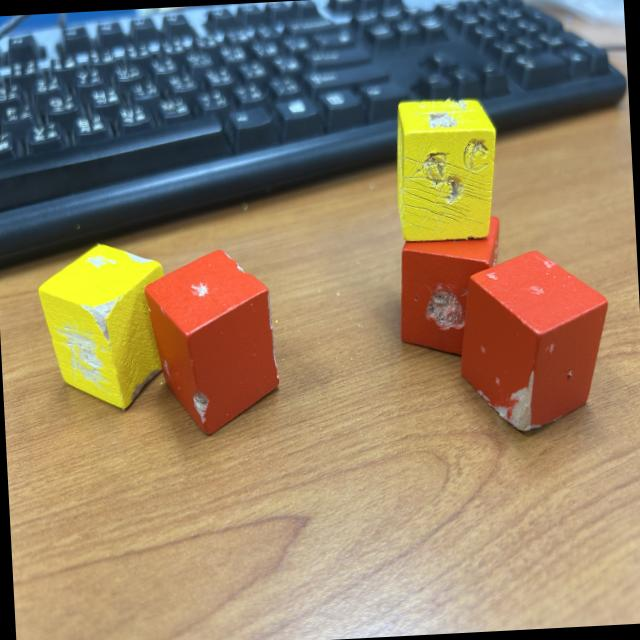broken: (454, 248, 615, 437), (142, 245, 282, 438), (36, 240, 174, 416), (391, 95, 502, 244), (395, 214, 507, 360)
